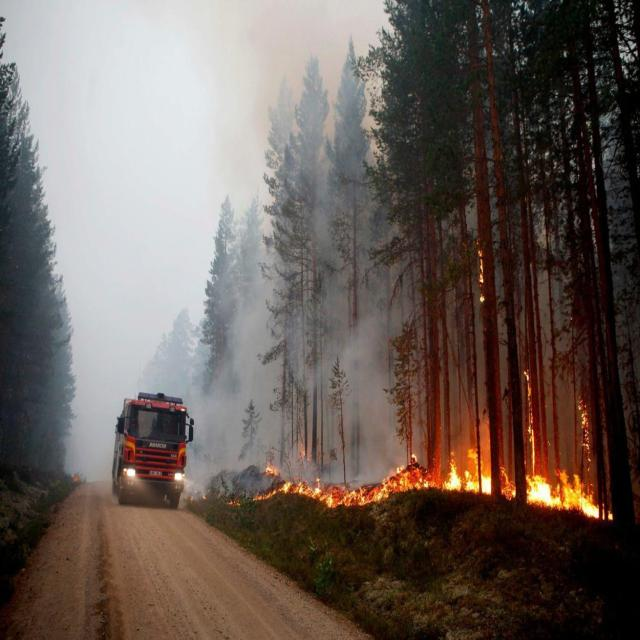Fire: (244, 423, 626, 538), (575, 400, 592, 455), (524, 367, 536, 422), (476, 235, 484, 288)
